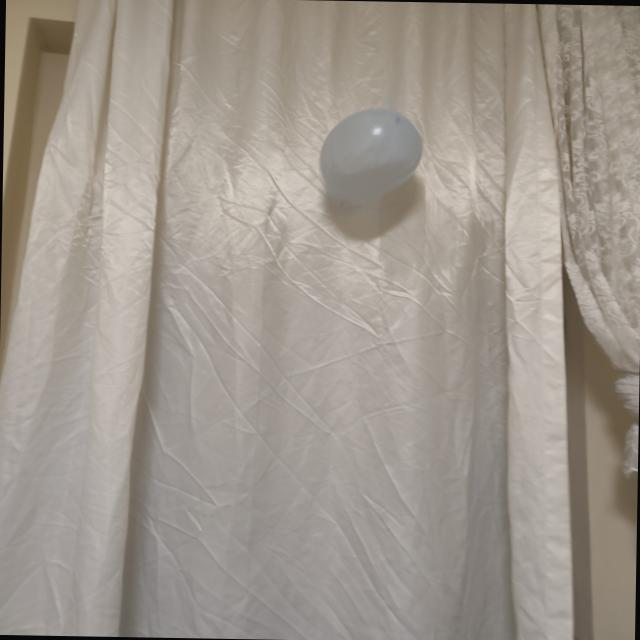balloon: (320, 108, 422, 201)
